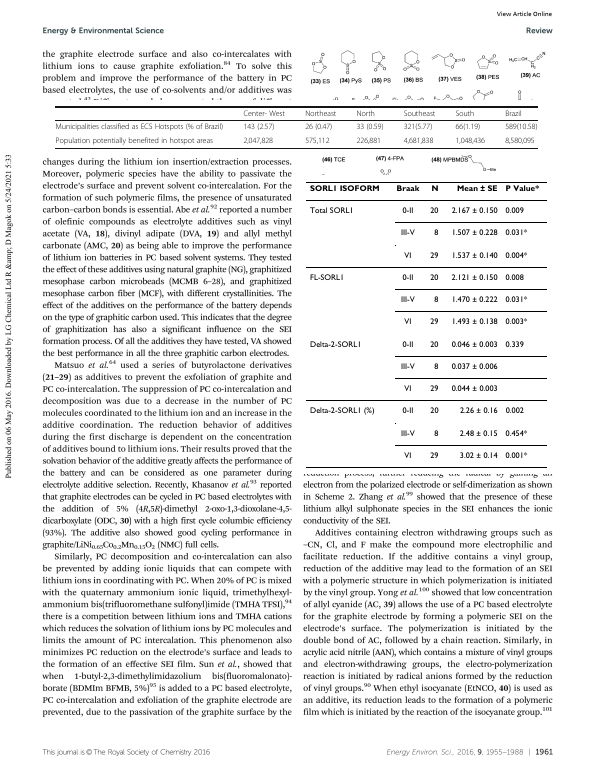borderless: (305, 180, 547, 467), (55, 105, 538, 148)
cell: (55, 122, 224, 132), (55, 136, 214, 146), (308, 407, 375, 417), (308, 340, 362, 350), (308, 185, 380, 192), (450, 229, 498, 239), (450, 251, 498, 261), (450, 273, 498, 283), (450, 295, 498, 305), (450, 318, 498, 328), (450, 340, 498, 350), (450, 362, 498, 372), (450, 207, 498, 216), (450, 385, 498, 394), (308, 207, 354, 216), (458, 407, 498, 417), (458, 429, 498, 439), (458, 451, 498, 461), (242, 109, 286, 118), (308, 273, 345, 283), (504, 122, 538, 132), (242, 122, 275, 132), (242, 136, 274, 146), (454, 136, 486, 146), (504, 136, 536, 146), (403, 136, 434, 146), (455, 185, 498, 192), (403, 122, 433, 132), (304, 109, 337, 118), (403, 109, 436, 118), (304, 122, 333, 132), (355, 122, 384, 132), (454, 122, 481, 132), (355, 136, 382, 146), (304, 136, 330, 146), (504, 185, 539, 192), (504, 229, 528, 239), (504, 251, 528, 261), (504, 295, 528, 305), (504, 318, 528, 328), (504, 429, 528, 439), (504, 451, 528, 461), (504, 273, 524, 283), (504, 340, 524, 350), (504, 407, 524, 417), (355, 109, 376, 118), (454, 109, 475, 118), (504, 207, 524, 216), (395, 185, 420, 192), (504, 109, 523, 118), (399, 229, 415, 239), (399, 295, 415, 305), (399, 362, 415, 372), (399, 429, 415, 439), (401, 273, 414, 283), (401, 340, 414, 350), (401, 407, 414, 417), (401, 207, 414, 216), (429, 251, 439, 261), (429, 273, 439, 283), (429, 318, 439, 328), (429, 340, 439, 350), (429, 407, 439, 417), (429, 451, 439, 461), (429, 207, 439, 216), (403, 251, 412, 261), (403, 318, 412, 328), (429, 385, 439, 394), (403, 451, 412, 461), (403, 385, 412, 394), (430, 185, 439, 192), (433, 229, 439, 239), (433, 295, 439, 305), (433, 362, 439, 372), (433, 429, 439, 439)
